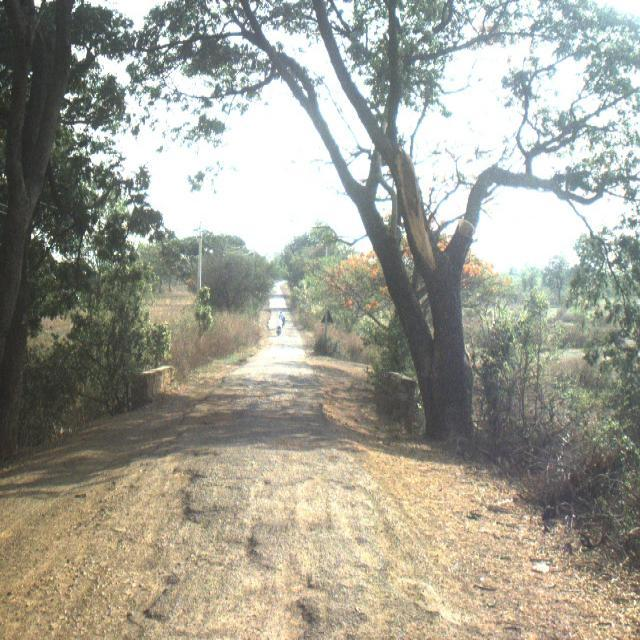Pothole: (163, 464, 346, 640), (60, 497, 156, 640), (358, 474, 436, 640)
